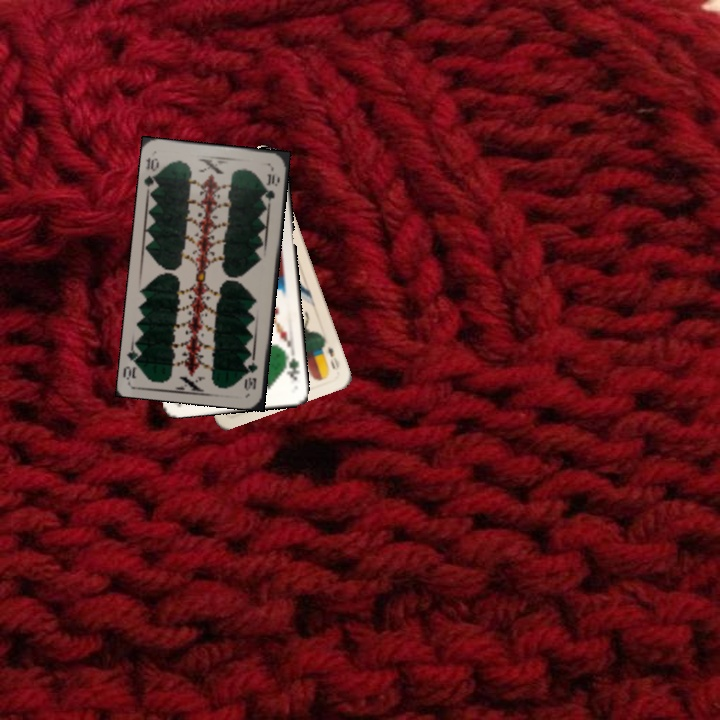EO: (324, 342, 342, 373)
G10: (141, 153, 162, 194), (241, 352, 260, 393)
GK: (283, 349, 302, 382)
